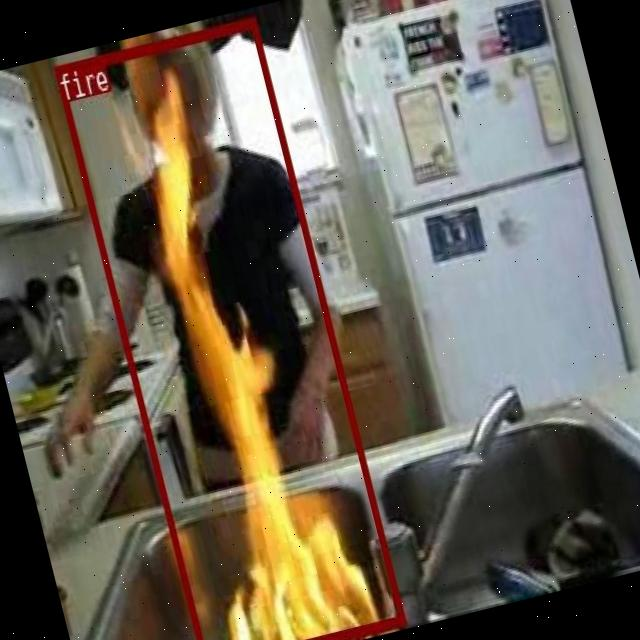fire: (52, 16, 403, 640)
